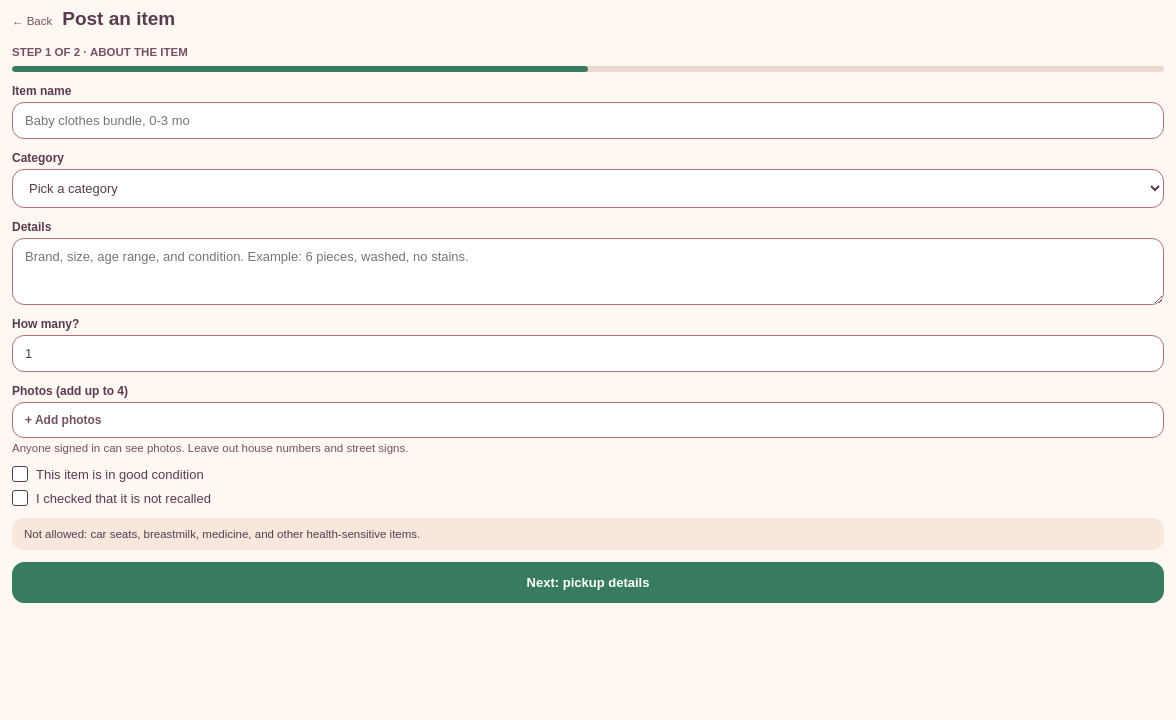
PostItemPage › says which answers are missing on step 1
Expected: the text "Step 1 of 2 · About the item" is shown, [12, 46, 188, 58]
Expected: the text "Not allowed: car seats, breastmilk, medicine, and other health-sensitive items." is shown, [12, 518, 1164, 550]
Click the button "Next: pickup details": coordinates (588, 582) [12, 562, 1164, 603]
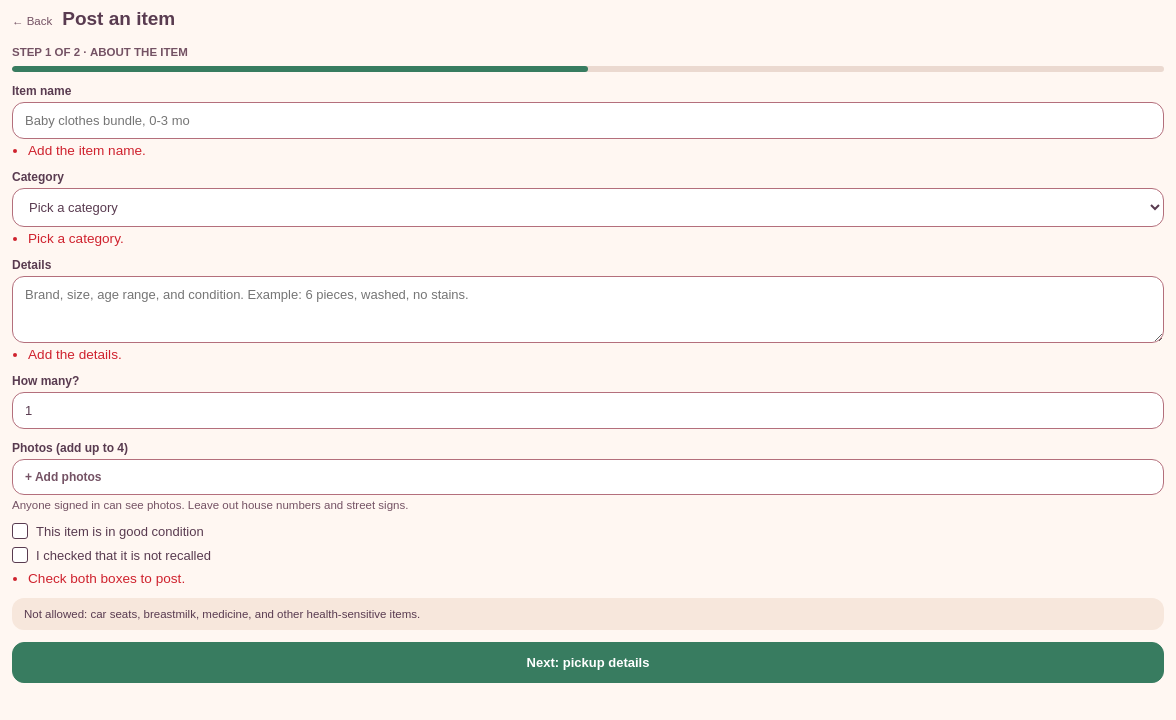
Expected: the list item "Add the item name." is shown, [28, 143, 146, 158]
Expected: the list item "Pick a category." is shown, [28, 231, 124, 246]
Expected: the list item "Add the details." is shown, [28, 347, 122, 362]
Replace the text in the number field labelled "How many?" with "0": coordinates (588, 410) [12, 392, 1164, 429]
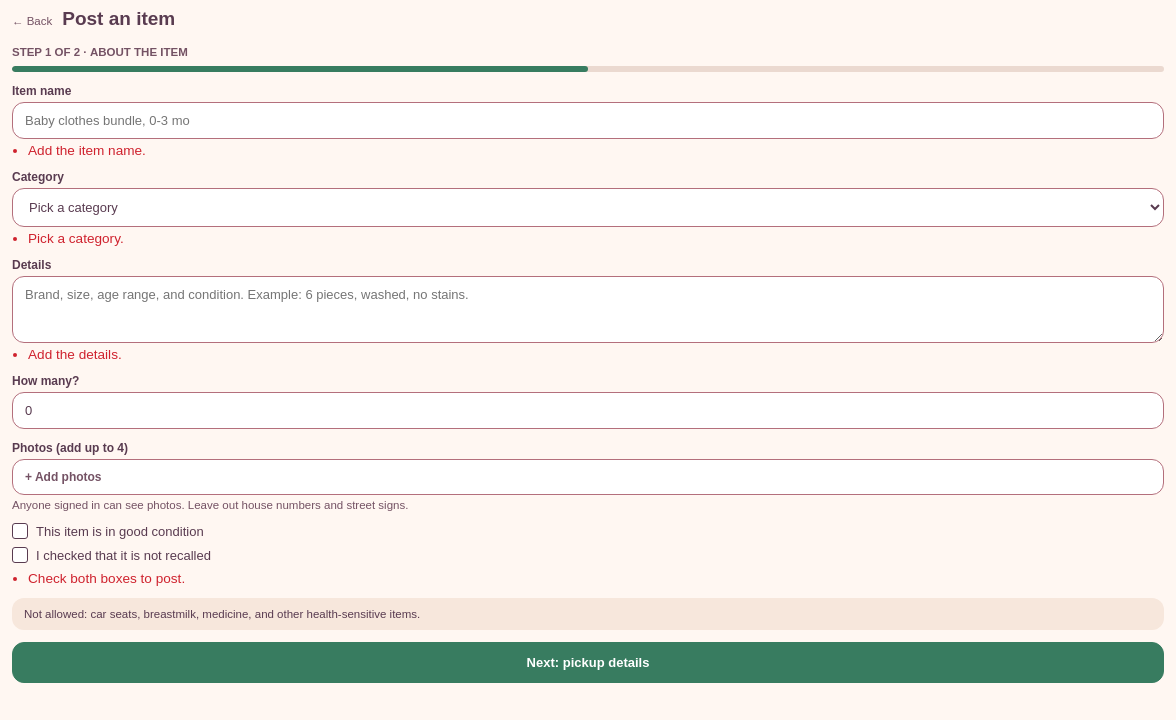
Click the button "Next: pickup details": coordinates (588, 662) [12, 642, 1164, 683]
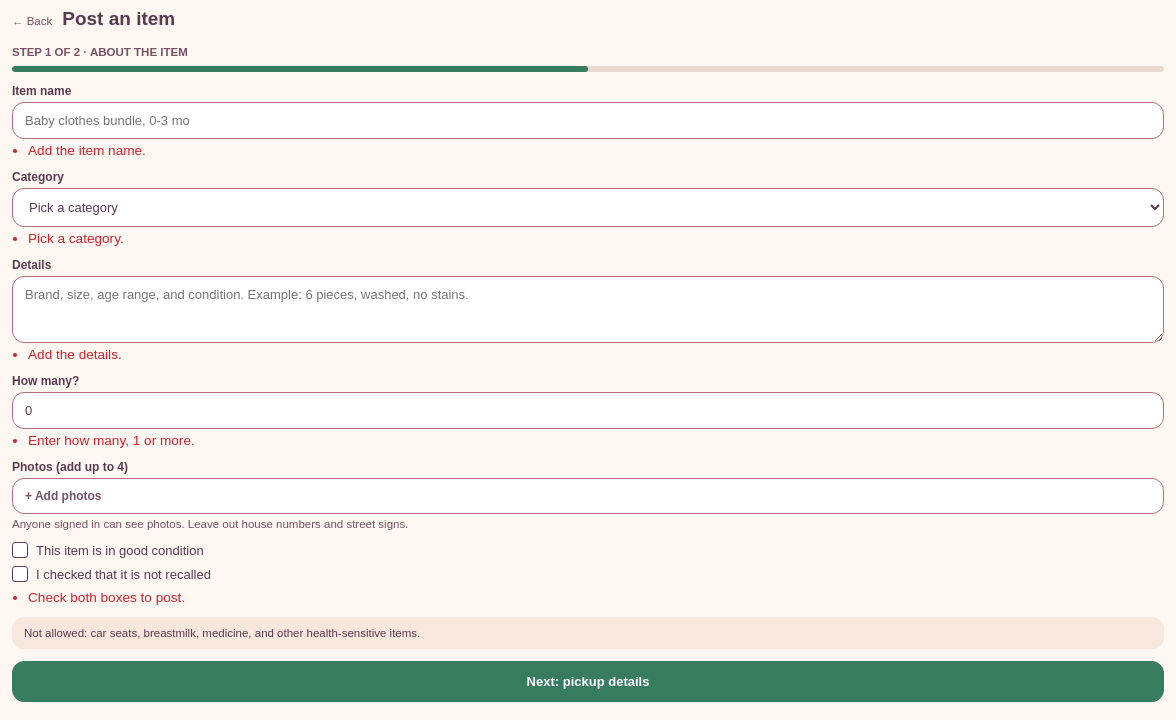
Expected: the list item "Enter how many, 1 or more." is shown, [28, 433, 195, 448]
